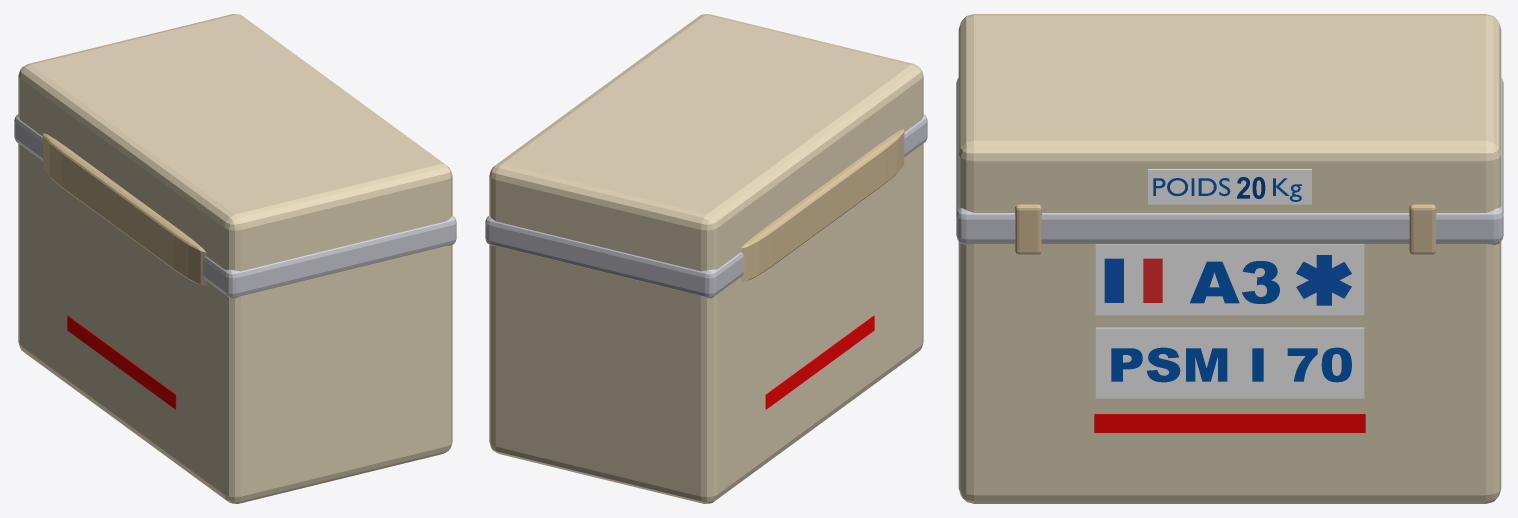
Rendered from MalleA3.fbx.
3 renders of one model, left to right at view 1: azimuth 30°, elevation 25°; view 2: azimuth 150°, elevation 25°; view 3: azimuth 270°, elevation 25°, orthographic. The views are drawn at different scales.
Parts seen in each view (by area): view 1: Malle_PSM, Anneau, Loquet.002, Bande_Rouge; view 2: Malle_PSM, Anneau, Loquet.002, Bande_Rouge; view 3: Malle_PSM, Anneau, Etiquette_PSM, Etiquette_A3.001, Bande_Rouge, Etiquette_A3, Texte_PSM, Drabeau Blanc, Texte_A3, Samu, Loquet, Loquet.001 (+1 smaller).
Boxes of the visible parts, left/top/right/bottom form: Malle_PSM: left=18, top=14, right=452, bottom=503; Anneau: left=14, top=114, right=456, bottom=298; Loquet.002: left=43, top=133, right=206, bottom=285; Bande_Rouge: left=67, top=315, right=176, bottom=409; Malle_PSM: left=489, top=14, right=923, bottom=503; Anneau: left=485, top=114, right=927, bottom=298; Loquet.002: left=741, top=129, right=904, bottom=281; Bande_Rouge: left=765, top=315, right=874, bottom=409; Malle_PSM: left=958, top=14, right=1501, bottom=503; Anneau: left=956, top=78, right=1503, bottom=244; Etiquette_PSM: left=1095, top=327, right=1364, bottom=398; Etiquette_A3.001: left=1095, top=244, right=1364, bottom=315; Bande_Rouge: left=1094, top=414, right=1365, bottom=432; Etiquette_A3: left=1148, top=169, right=1311, bottom=204; Texte_PSM: left=1111, top=347, right=1351, bottom=382; Drabeau Blanc: left=1104, top=258, right=1162, bottom=302; Texte_A3: left=1190, top=261, right=1279, bottom=303; Samu: left=1296, top=255, right=1351, bottom=305; Loquet: left=1409, top=204, right=1436, bottom=254; Loquet.001: left=1015, top=204, right=1041, bottom=254.
Bounding box in the file's own units: 33.45 × 39 × 53.5.
